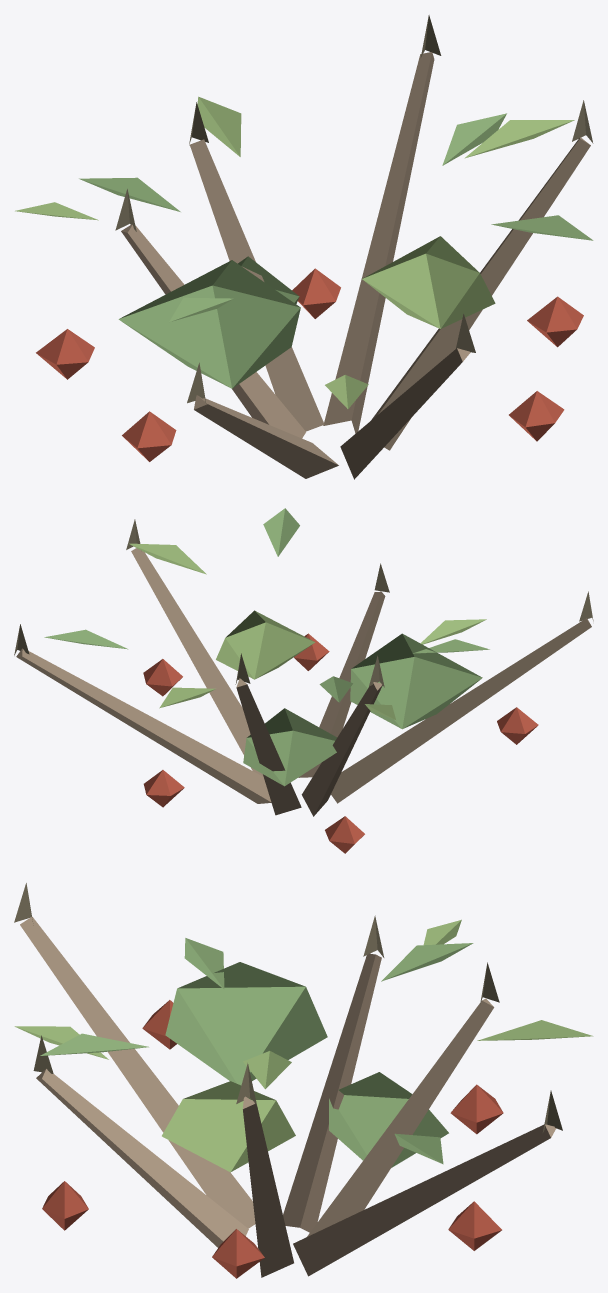
The model's file is cao.hanji@fruiting__bloom.glb.
The picture shows the model from 3 angles, top to bottom: view 1: azimuth 30°, elevation 25°; view 2: azimuth 150°, elevation 25°; view 3: azimuth 270°, elevation 25°; orthographic projection. The views are drawn at different scales.
Parts seen in each view (by area): view 1: cao.hanji@fruiting__bloom; view 2: cao.hanji@fruiting__bloom; view 3: cao.hanji@fruiting__bloom.
Boxes of the visible parts, x1=… form: cao.hanji@fruiting__bloom: x1=15, y1=15, x2=593, y2=479; cao.hanji@fruiting__bloom: x1=14, y1=508, x2=593, y2=853; cao.hanji@fruiting__bloom: x1=14, y1=883, x2=593, y2=1278.
Bounding box in the file's own units: 2.06 × 1.17 × 1.99.
